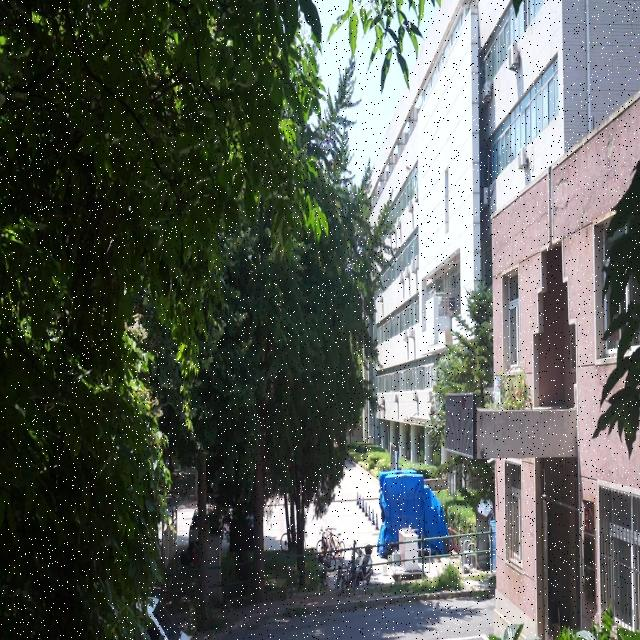UAV: (406, 165, 411, 172)
